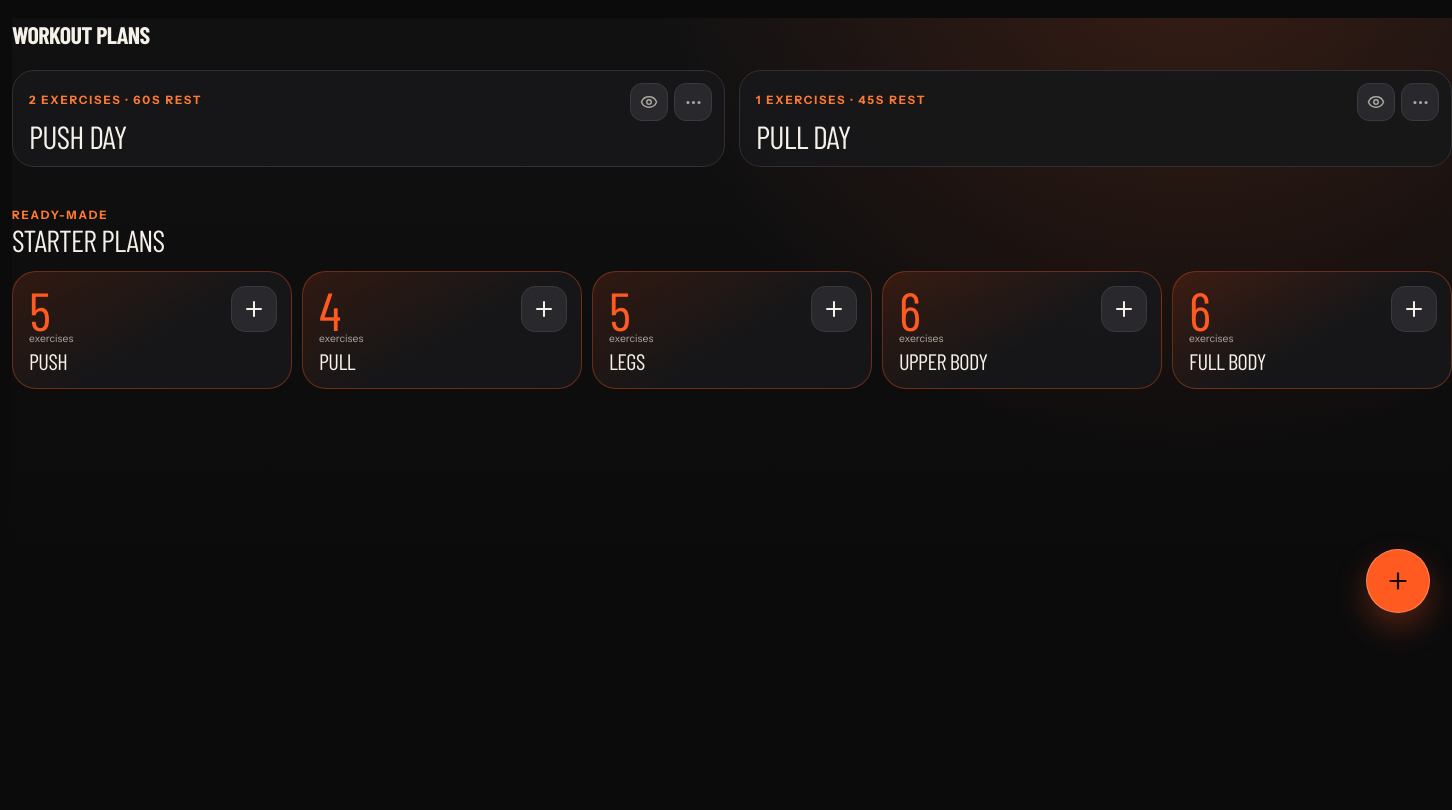
PlansScreen card controls › closes the plan actions menu outside the card
Step 1. Click the button named "Actions for Push day" → (693, 102), box [674,83,712,121]
(page scrolled)
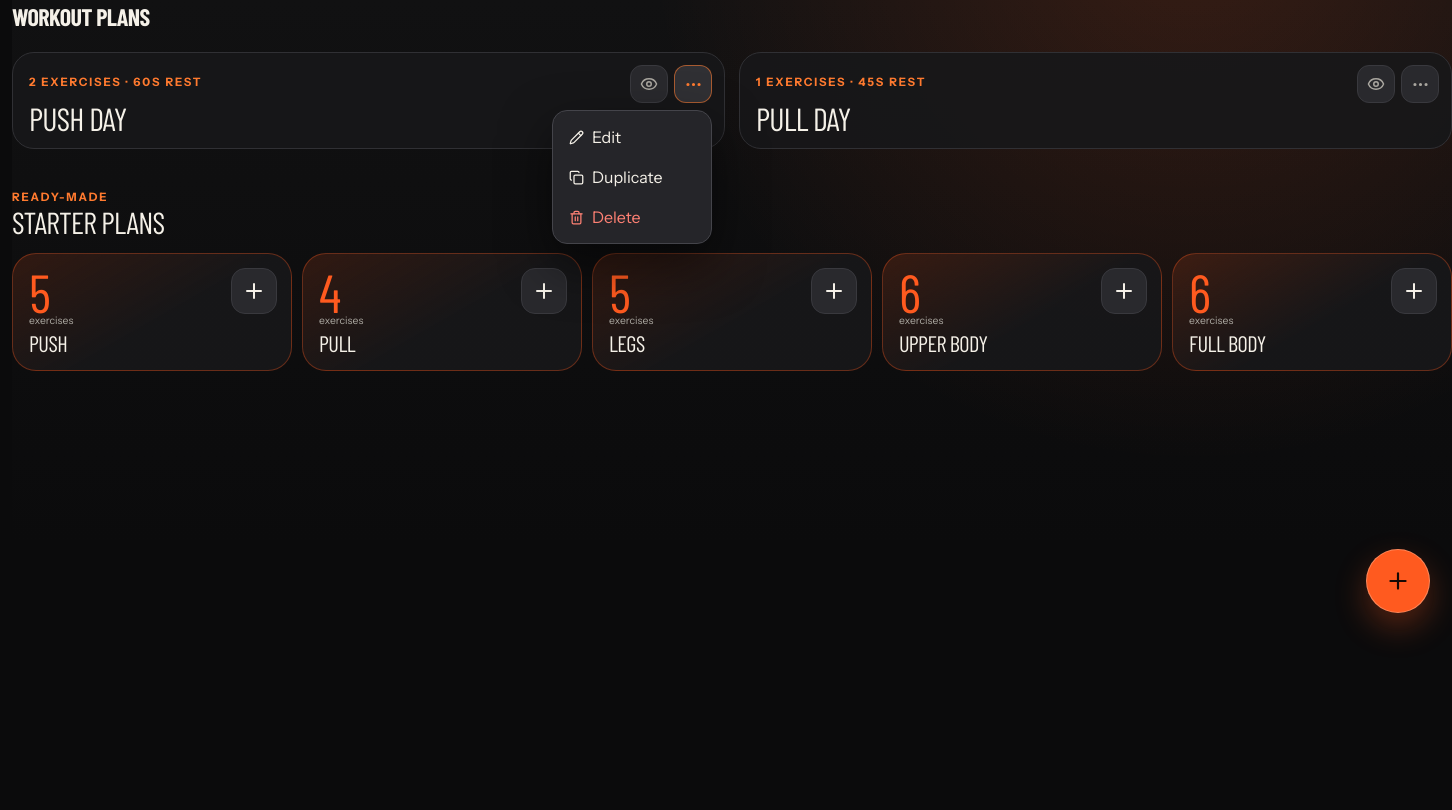
Expected: the button "Edit" is shown, [559,117,705,157]
Step 2. Click the element that starts with "Workout plans" → (732, 405), box [12,0,1451,809]
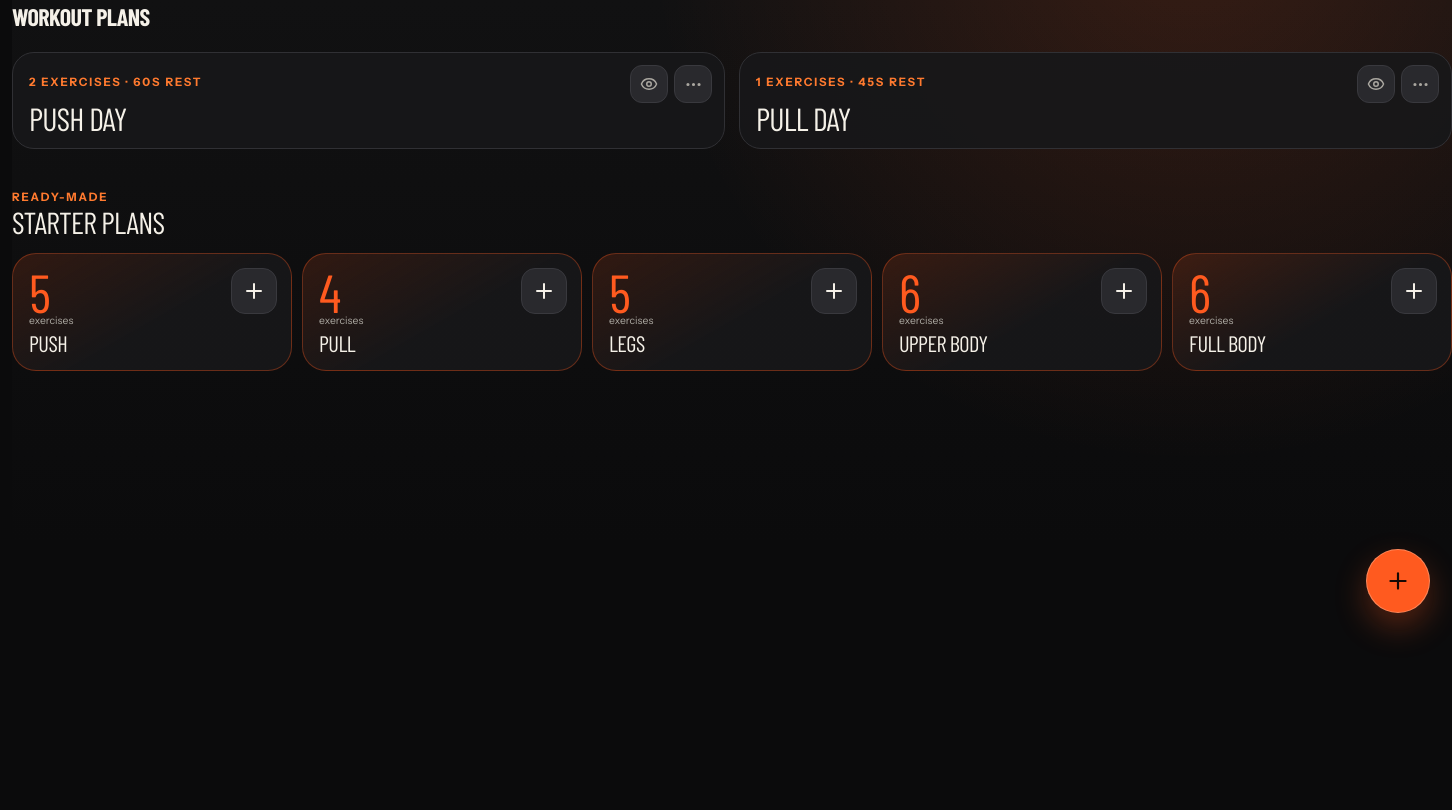
Expected: the button "Edit" is gone
